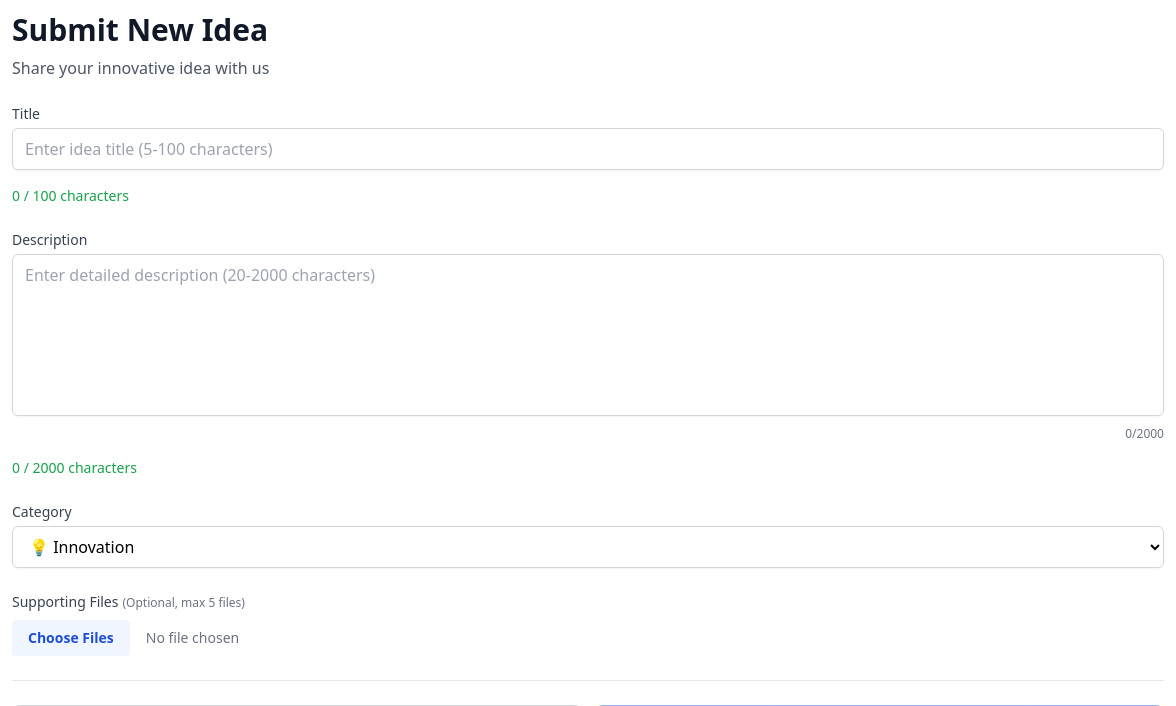
Test: IdeaForm Component › Character Counting › should display character count for title
This screenshot has width=1176, height=706.
Step 1. Type "Hello" into the field with placeholder "Enter idea title (5-100 characters)" → (588, 149), box 12,128 -> 1164,170
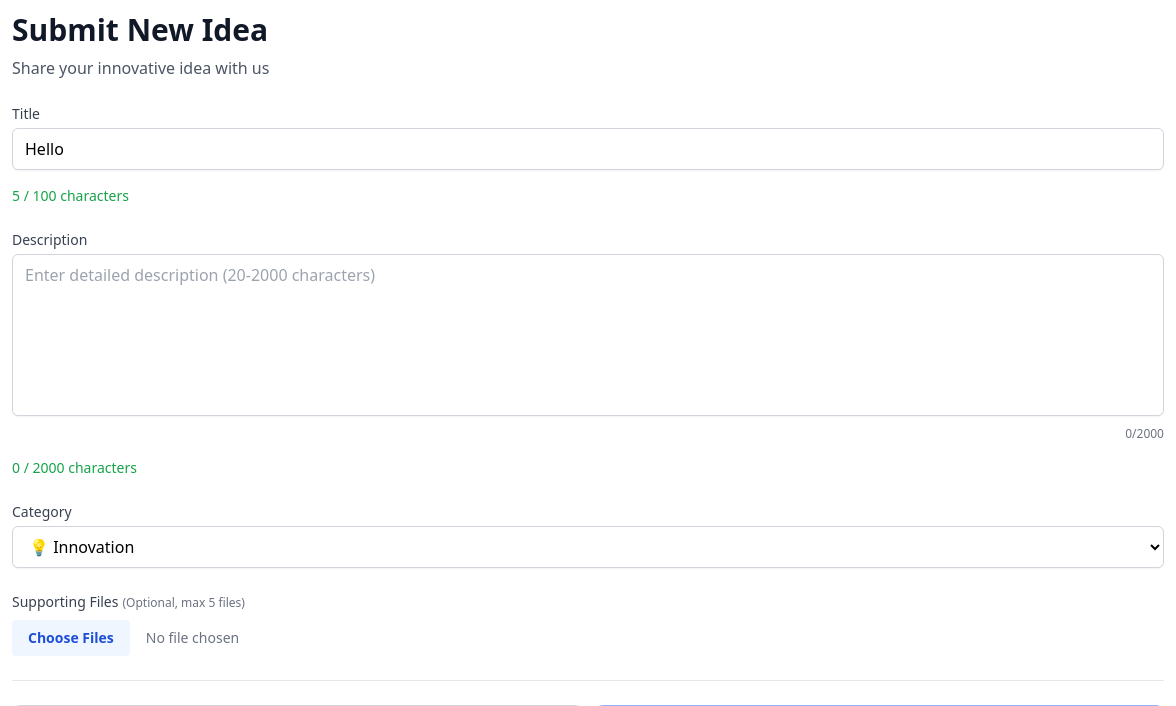
Check: the text "5 / 100 characters" is shown, box 12,186 -> 129,205
